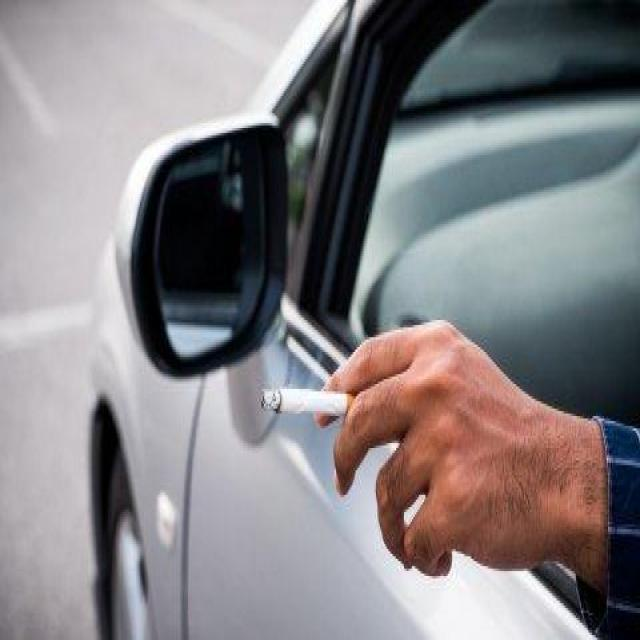rokok: (255, 384, 353, 426)
